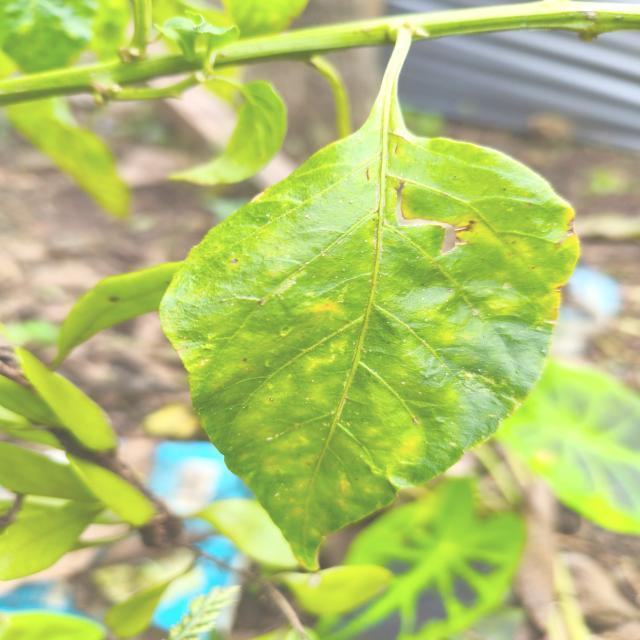Virus Kuning: (156, 122, 581, 572)
